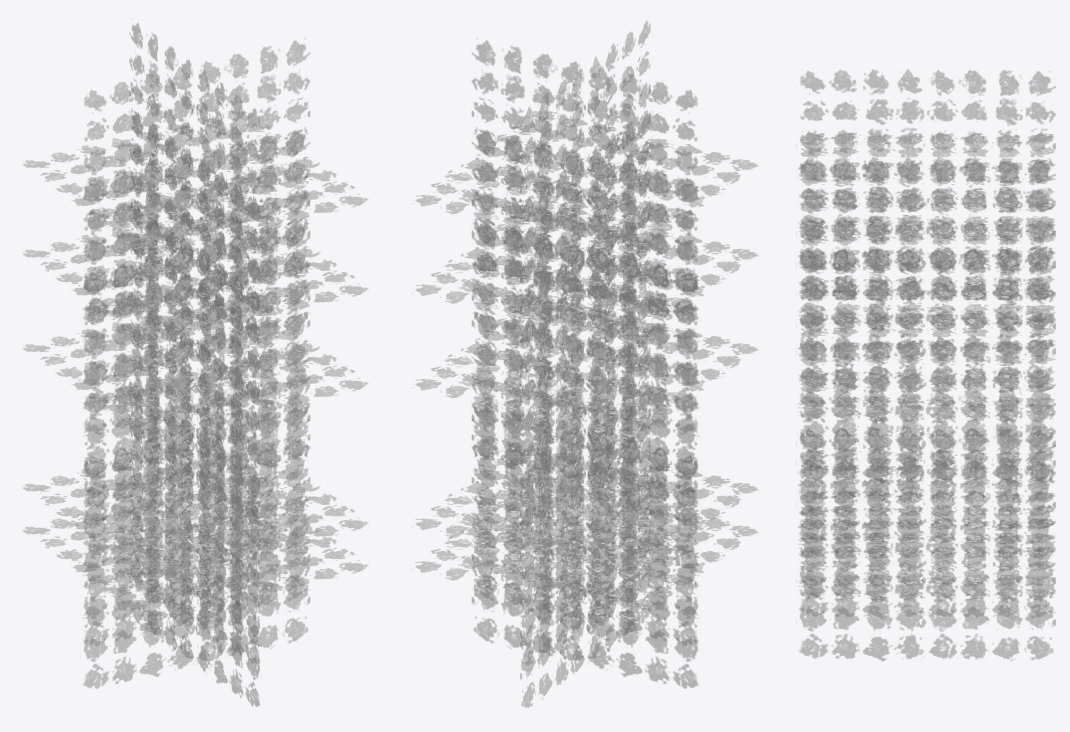
Rendered from boomnl.glb.
3 views of the same model, side by side, from view 1: azimuth 30°, elevation 25°; view 2: azimuth 150°, elevation 25°; view 3: azimuth 270°, elevation 25° (orthographic). The views are drawn at different scales.
Visible parts, largest first — view 1: mesh; view 2: mesh; view 3: mesh.
Part boxes in pixels (x1,y1,x2,y2): mesh: [23, 23, 367, 706]; mesh: [415, 21, 757, 707]; mesh: [796, 69, 1055, 660].
Size of the model in its own units: 1.95 by 4.91 by 1.95.
1 material, 1 textured.
